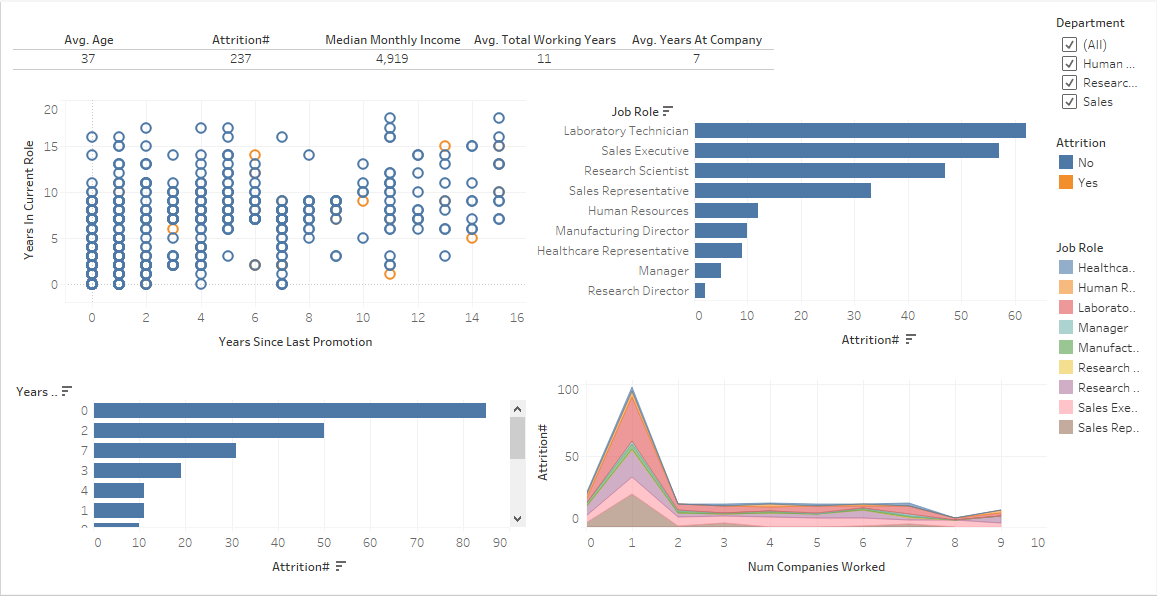

The dashboard page shown, as its layout file describes it:
{"tool":"tableau","page":{"name":"Dashboard 1","canvas":[1000,800],"ordinal":0},"visuals":[{"type":"title","box":[8,8,984,42]},{"type":"worksheet","title":"Sheet 1","mark":"Automatic","box":[8,50,492,103]},{"type":"worksheet","title":"Sheet 3","mark":"Automatic","box":[500,50,492,350]},{"type":"worksheet","title":"Sheet 2","mark":"Automatic","rows":["TotalDeathCount"],"cols":["Continent"],"box":[8,153,492,247]},{"type":"worksheet","title":"Sheet 4","mark":"Line","rows":["PercentPopulationInfected"],"cols":["date"],"box":[8,400,984,392]}]}

Visuals, with their boxes on the page's 1000x800 design canvas (x1, y1, x2, y2). These are canvas units, not pixel positions in the 1157x596 screenshot, which may show the page scaled, cropped or inside an application window:
title: box(8, 8, 992, 50)
"Sheet 1" worksheet: box(8, 50, 500, 153)
"Sheet 3" worksheet: box(500, 50, 992, 400)
"Sheet 2" worksheet: box(8, 153, 500, 400)
"Sheet 4" worksheet (Line marks): box(8, 400, 992, 792)
